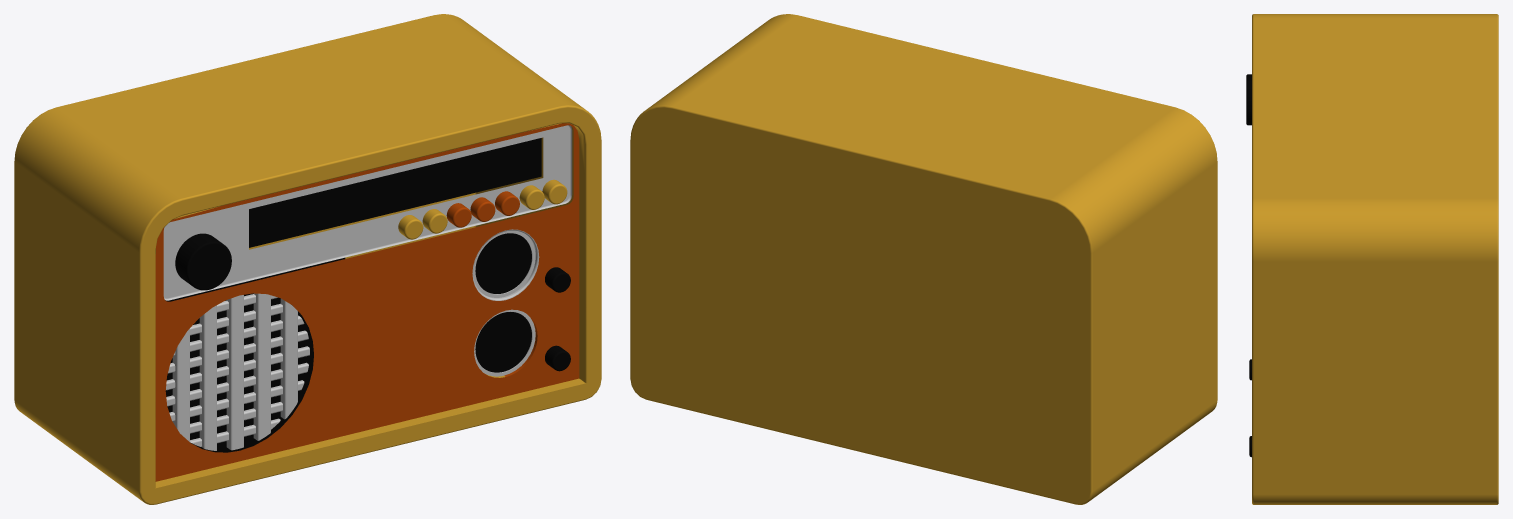
Rendered from Radio.fbx.
3 views of the same model, side by side, from view 1: azimuth 30°, elevation 25°; view 2: azimuth 150°, elevation 25°; view 3: azimuth 270°, elevation 25° (orthographic). The views are drawn at different scales.
Parts seen in each view (by area): view 1: Radio, Cube_1; view 2: Radio; view 3: Radio, Cube_1.
Boxes of the visible parts, x1,y1,x2,y2 form: Radio: [14, 14, 601, 504]; Cube_1: [165, 138, 570, 452]; Radio: [630, 14, 1217, 504]; Radio: [1252, 14, 1498, 504]; Cube_1: [1246, 74, 1251, 457].
Size of the model in its own units: 29.78 by 18.45 by 14.42.
